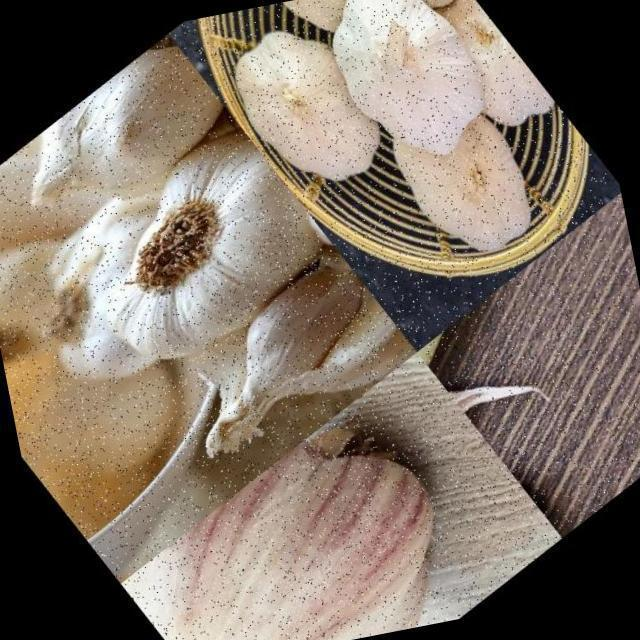garlic: (94, 378, 505, 640), (32, 102, 358, 408), (147, 237, 434, 496), (0, 23, 261, 274), (201, 0, 413, 225), (363, 66, 571, 292), (295, 0, 518, 192), (403, 0, 562, 157), (261, 0, 424, 77), (346, 0, 468, 35)
